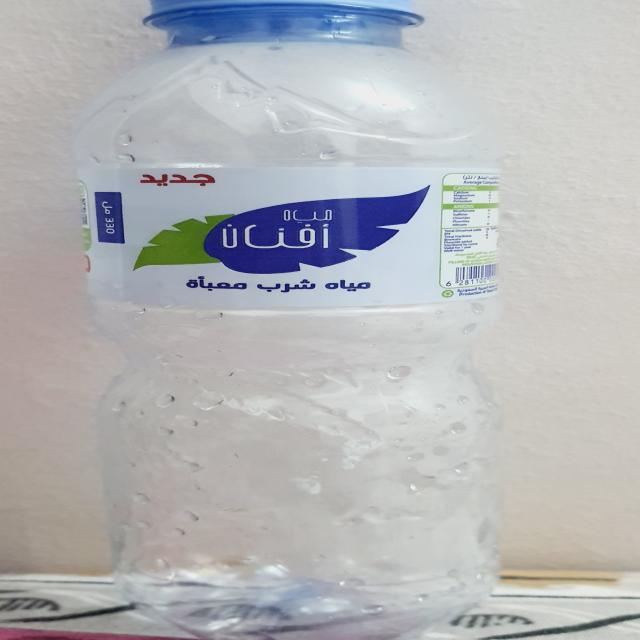plastic: (71, 0, 500, 638)
